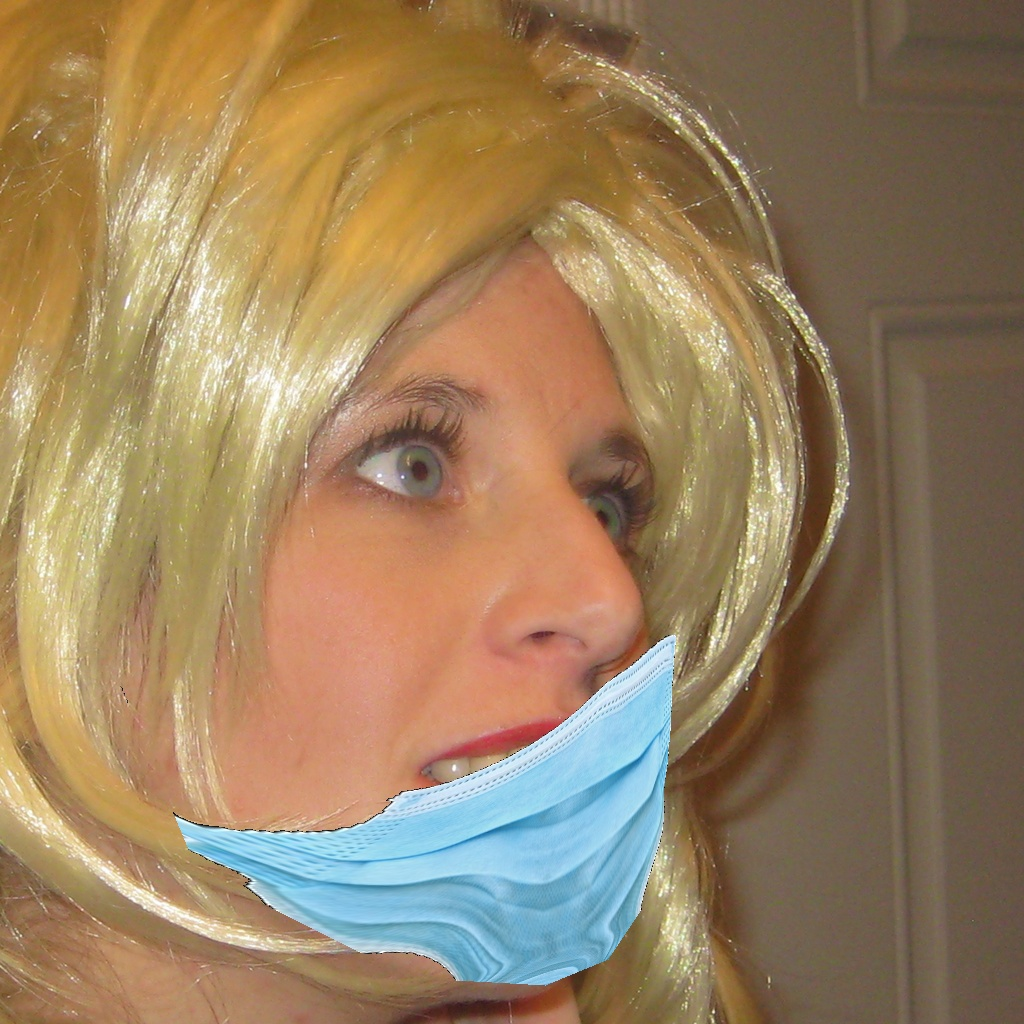mascarilla_mal_puesta: (221, 428, 736, 1013)
